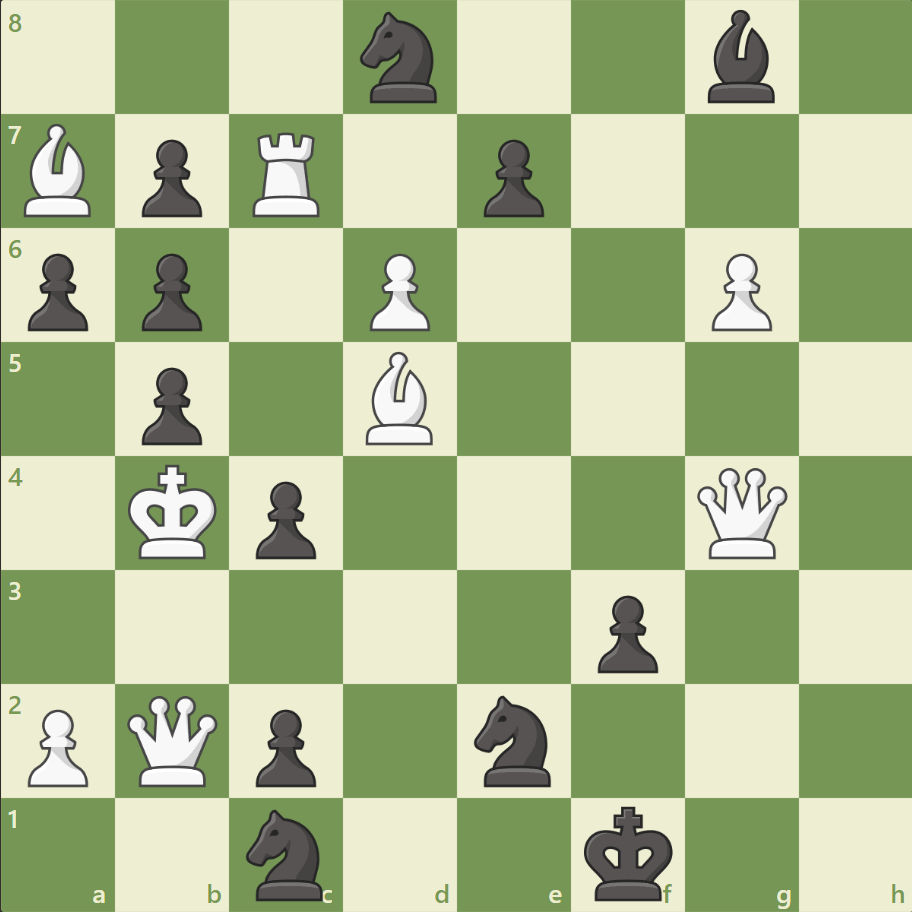B: (17, 120, 101, 222), (358, 347, 442, 449)
K: (124, 458, 224, 566)
P: (701, 246, 776, 337), (20, 700, 95, 791), (361, 246, 435, 337)
Q: (691, 463, 790, 562), (124, 690, 223, 789)
R: (246, 125, 329, 222)
b: (698, 6, 782, 109)
k: (579, 798, 679, 906)
n: (351, 7, 449, 110), (465, 688, 562, 791), (238, 802, 335, 904)
p: (133, 132, 208, 223), (474, 132, 549, 223), (20, 246, 95, 337), (133, 246, 208, 337), (133, 359, 208, 450), (247, 473, 322, 564), (247, 700, 322, 791), (588, 586, 662, 677)
